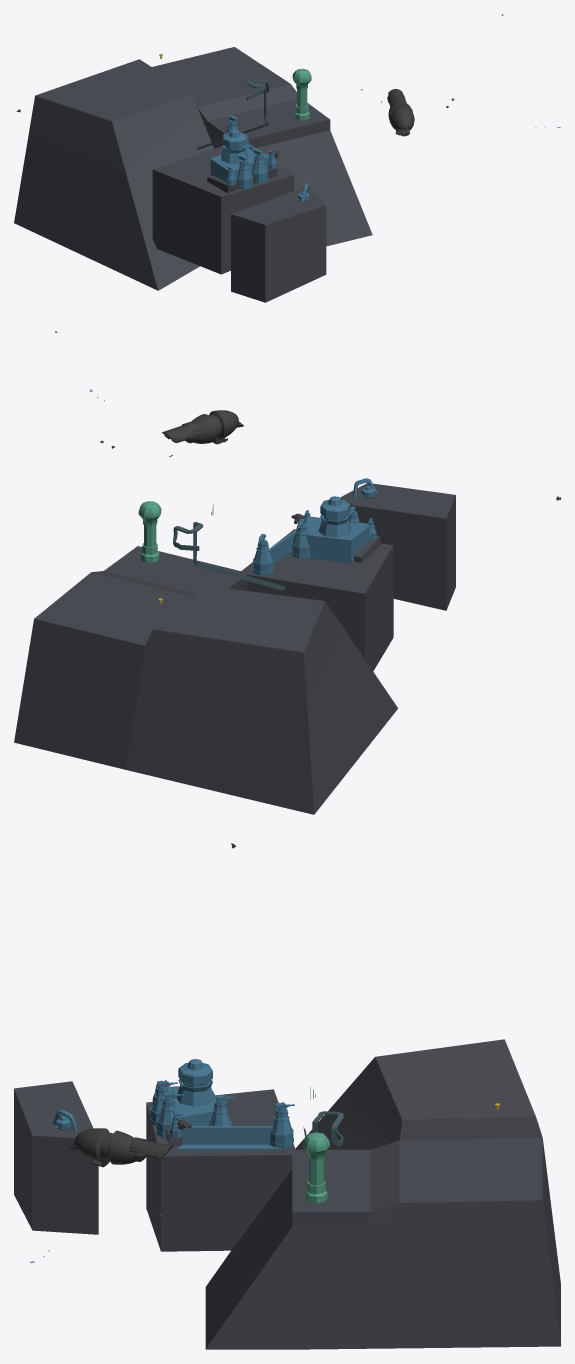
The model's file is Set setting 2.fbx.
The picture shows the model from 3 angles, top to bottom: view 1: azimuth 30°, elevation 25°; view 2: azimuth 150°, elevation 25°; view 3: azimuth 270°, elevation 25°; orthographic projection. The views are drawn at different scales.
Parts seen in each view (by area): view 1: rock_platform_magnet, Rock_platform_main, rock_platform_corner, mothership, pCylinder8, pCylinder4, pCube1, magnet_path, turret4, turret3; view 2: rock_platform_magnet, rock_platform_corner, Rock_platform_main, pCube1, mothership, pCylinder8, pCylinder4, magnet_path; view 3: rock_platform_magnet, Rock_platform_main, rock_platform_corner, mothership, wall, pCylinder8, pCylinder4, pCube1, turret6.
Boxes of the visible parts, box(x1,y1,x2,y2) form: rock_platform_magnet: box(14, 47, 372, 290); Rock_platform_main: box(152, 146, 294, 274); rock_platform_corner: box(231, 187, 326, 302); mothership: box(387, 89, 414, 136); pCylinder8: box(221, 129, 247, 163); pCylinder4: box(292, 68, 311, 120); pCube1: box(210, 148, 269, 181); magnet_path: box(197, 80, 269, 149); turret4: box(237, 160, 253, 189); turret3: box(252, 154, 268, 183); rock_platform_magnet: box(14, 546, 397, 814); rock_platform_corner: box(340, 483, 455, 610); Rock_platform_main: box(241, 529, 393, 671); pCube1: box(306, 516, 370, 563); mothership: box(162, 410, 243, 444); pCylinder8: box(318, 496, 351, 537); pCylinder4: box(138, 501, 161, 562); magnet_path: box(173, 522, 285, 590); rock_platform_magnet: box(205, 1039, 560, 1349); Rock_platform_main: box(146, 1089, 295, 1251); rock_platform_corner: box(14, 1081, 98, 1234); mothership: box(69, 1128, 172, 1167); wall: box(176, 1126, 282, 1150); pCylinder8: box(176, 1059, 214, 1106); pCylinder4: box(303, 1132, 329, 1203); pCube1: box(167, 1086, 216, 1125); turret6: box(270, 1108, 293, 1148).
Size of the model in its own units: 14623 by 6599 by 10769.
